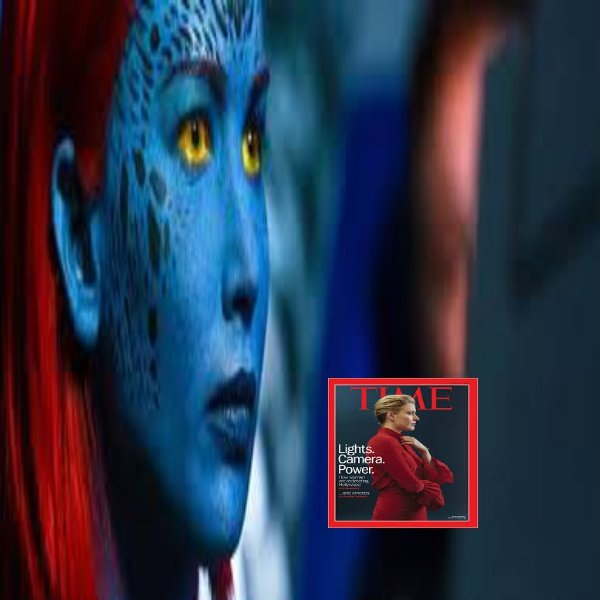time_cover: (325, 363, 494, 539)
